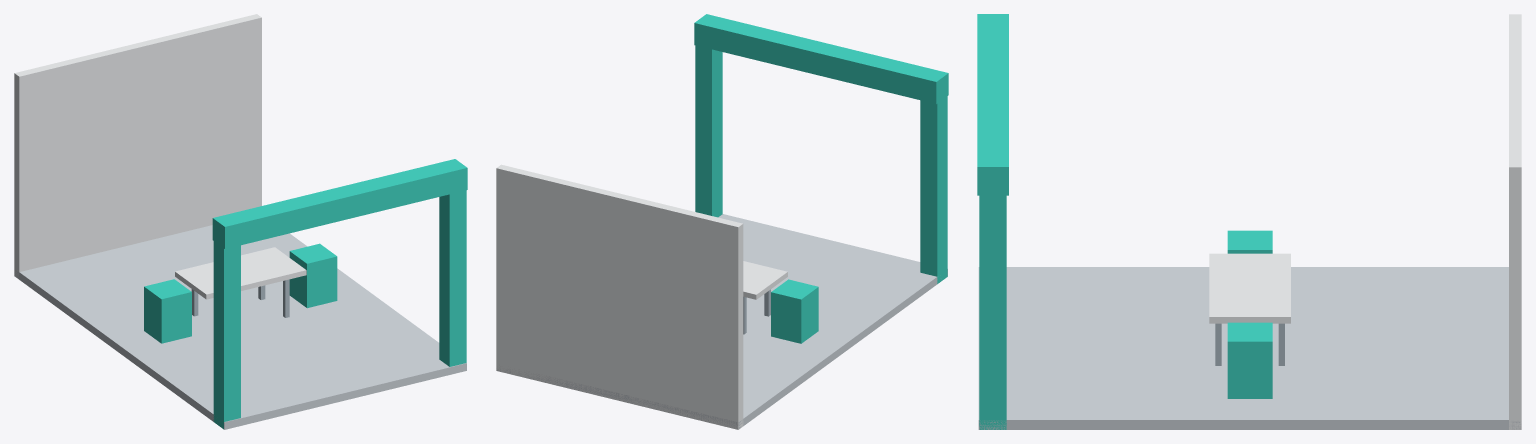
3 views of the same model, side by side, from view 1: azimuth 30°, elevation 25°; view 2: azimuth 150°, elevation 25°; view 3: azimuth 270°, elevation 25° (orthographic). The views are drawn at different scales.
Visible parts, largest first — view 1: Exhibition Booth Concept; view 2: Exhibition Booth Concept; view 3: Exhibition Booth Concept.
Part boxes in pixels (x1,y1,x2,y2): Exhibition Booth Concept: [14, 14, 467, 429]; Exhibition Booth Concept: [496, 14, 948, 429]; Exhibition Booth Concept: [977, 14, 1521, 429].
Size of the model in its own units: 4 by 3.2 by 6.02.
